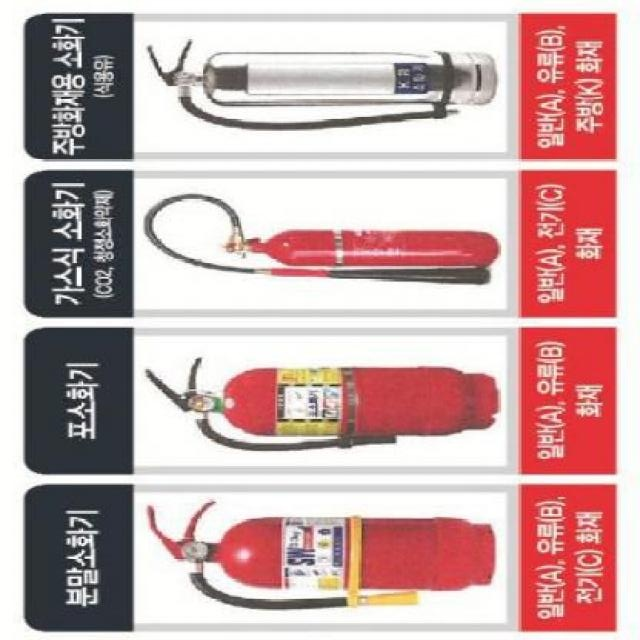fire extinguisher: (147, 500, 496, 611), (144, 359, 499, 453), (143, 193, 500, 284), (146, 40, 499, 131)
